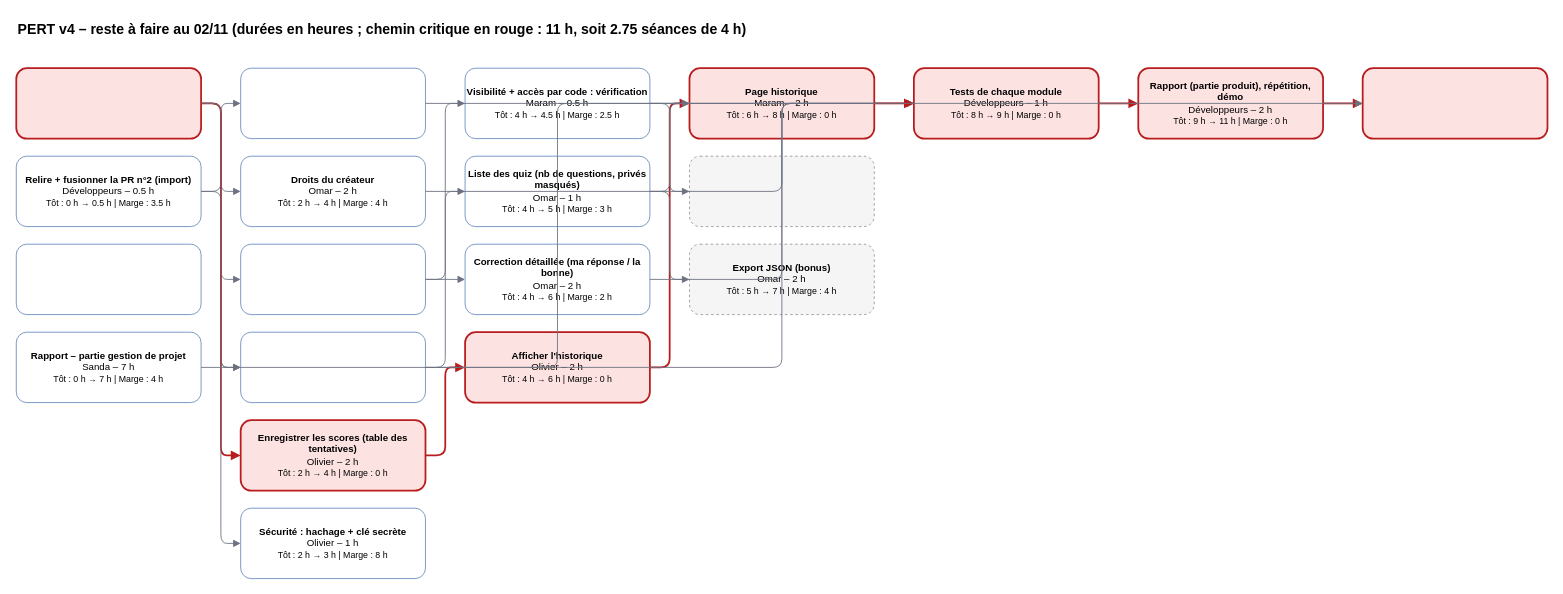
This 1563x594 diagram has some shape labels left out. Each missing label, with the box of its shape:
Brancher l'interface – côté base Olivier – 2 h Tôt : 2 h → 4 h | Marge : 2 h: (240, 243, 425, 315)
Brancher l'interface – côté pages Maram – 2 h Tôt : 2 h → 4 h | Marge : 2 h: (240, 331, 425, 403)
Création : 2 à 6 réponses Maram – 1 h Tôt : 0.5 h → 1.5 h | Marge : 6.5 h: (240, 67, 425, 139)
Démonstration finale Jalon – 23/11 Au plus tôt : 11 h: (1361, 67, 1548, 139)
Génération de quiz par IA (Groq) Maram – 4 h Tôt : 4.5 h → 8.5 h | Marge : 2.5 h: (689, 155, 874, 227)
README : requirements.txt Omar – 0.5 h Tôt : 0 h → 0.5 h | Marge : 10.5 h: (15, 243, 201, 315)
Tables alignées sur le MCD (PR) Olivier – 2 h Tôt : 0 h → 2 h | Marge : 0 h: (15, 67, 202, 139)
